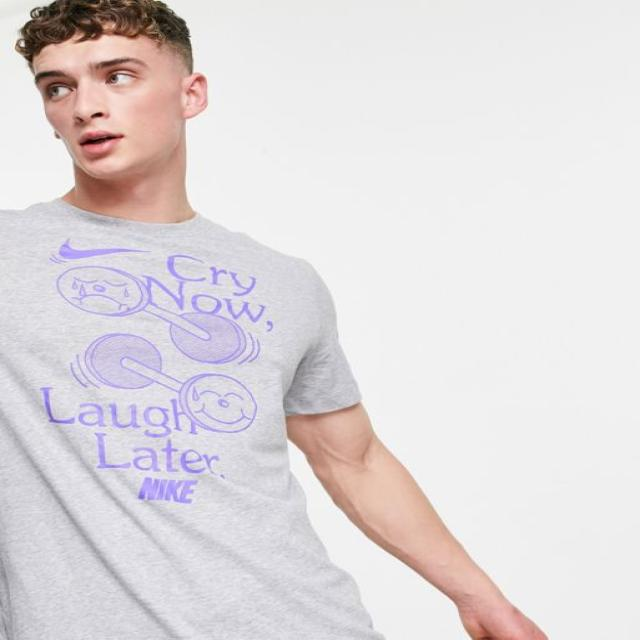tshirt: (0, 198, 388, 639)
